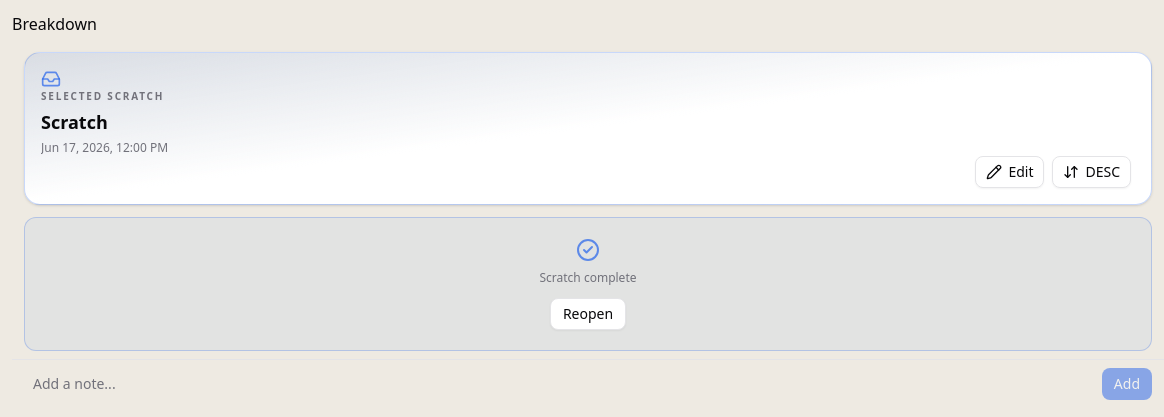
Test: BreakdownPanel › explicit Reopen restores the overlay and focuses its heading
The image size is (1164, 417).
Click the button "Reopen".
click(588, 314)  # box [550,298,626,330]
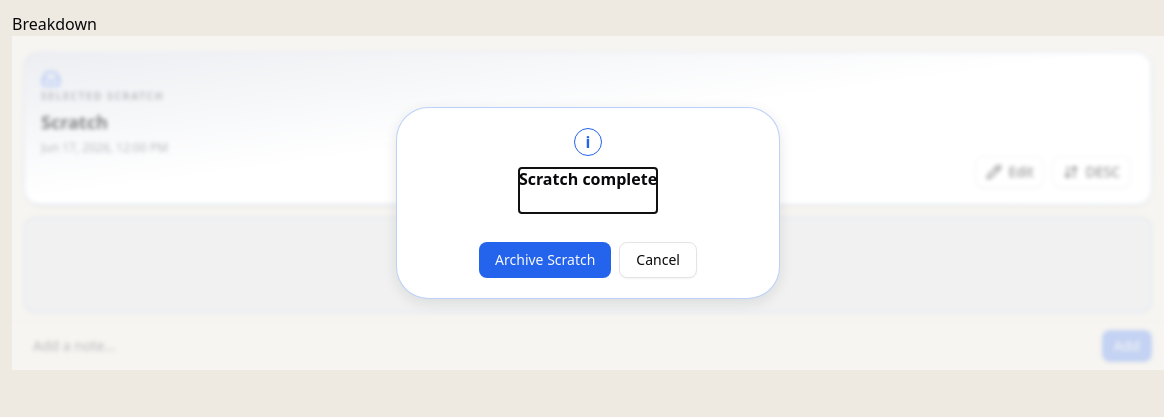
Check: the button "Cancel" is enabled, box [619,242,697,278]
